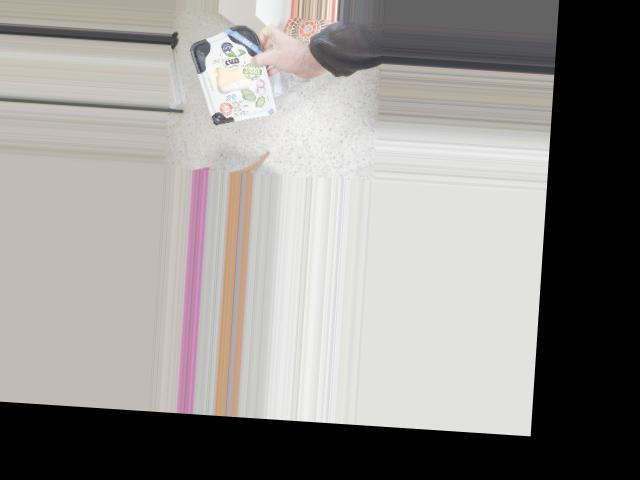cheese: (199, 26, 272, 126)
